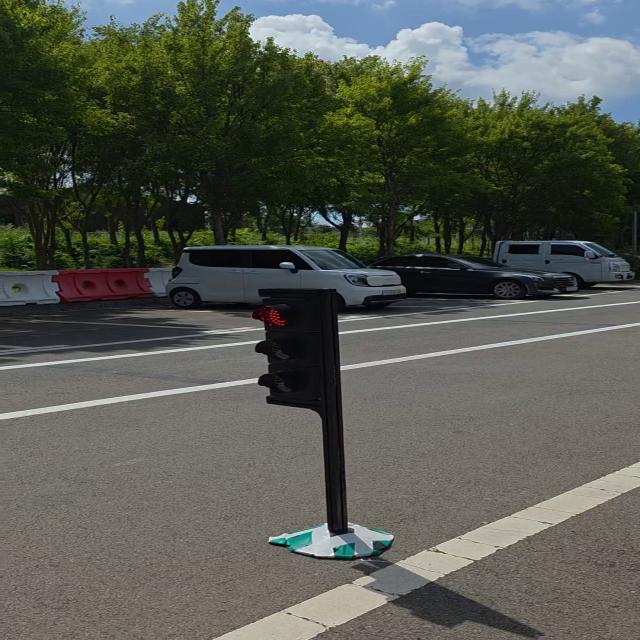red: (256, 286, 344, 417)
